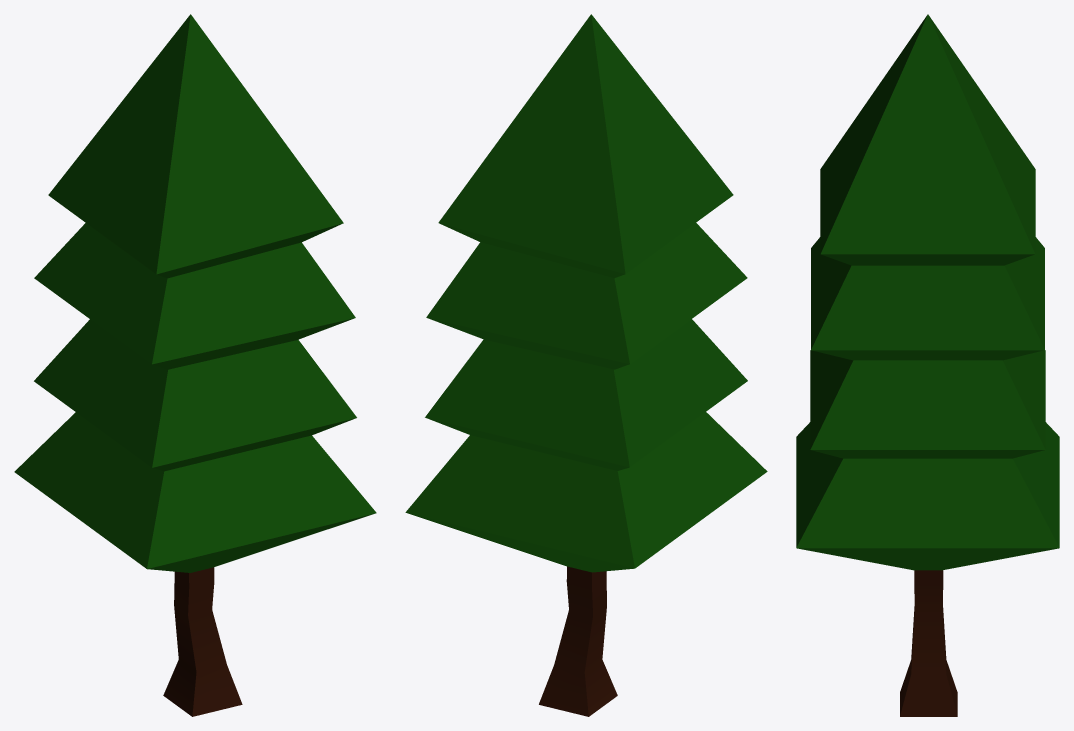
Rendered from tree_3.FBX.
The picture shows the model from 3 angles, left to right: view 1: azimuth 30°, elevation 25°; view 2: azimuth 150°, elevation 25°; view 3: azimuth 270°, elevation 25°; orthographic projection.
Visible parts, largest first — view 1: tree_3; view 2: tree_3; view 3: tree_3.
Boxes of the visible parts, bbox=[...] form: tree_3: bbox=[14, 14, 376, 716]; tree_3: bbox=[405, 14, 767, 716]; tree_3: bbox=[796, 14, 1059, 716].
Bounding box in the file's own units: 34.68 × 99.38 × 34.68.
